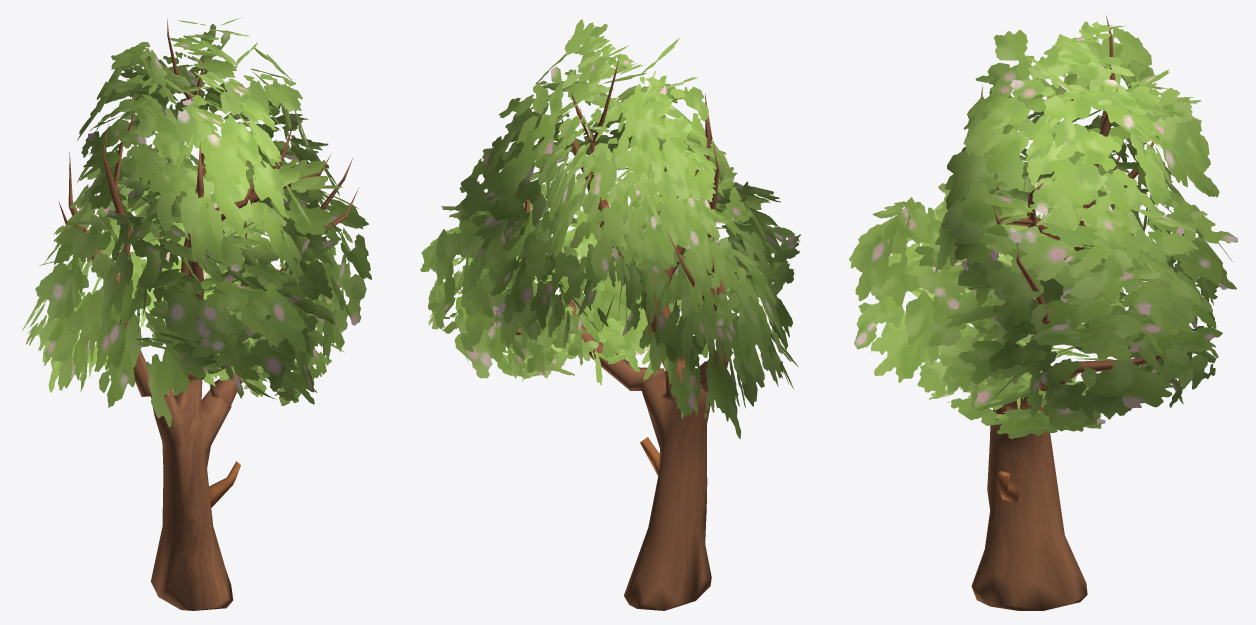
Rendered from WriteLoop_Tree_B_LOD1.glb.
The picture shows the model from 3 angles, left to right: view 1: azimuth 30°, elevation 25°; view 2: azimuth 150°, elevation 25°; view 3: azimuth 270°, elevation 25°; orthographic projection. The views are drawn at different scales.
Parts seen in each view (by area): view 1: Tree_Foliage, Tree_Wood; view 2: Tree_Foliage, Tree_Wood; view 3: Tree_Foliage, Tree_Wood.
Part boxes in pixels (box(x1,y1,x2,y2)): Tree_Foliage: box(22, 17, 371, 427); Tree_Wood: box(58, 18, 358, 610); Tree_Foliage: box(420, 19, 800, 438); Tree_Wood: box(458, 53, 728, 610); Tree_Foliage: box(849, 21, 1237, 438); Tree_Wood: box(965, 16, 1172, 610).
Size of the model in its own units: 1.57 by 2.45 by 1.53.
2 materials, 2 textured.
